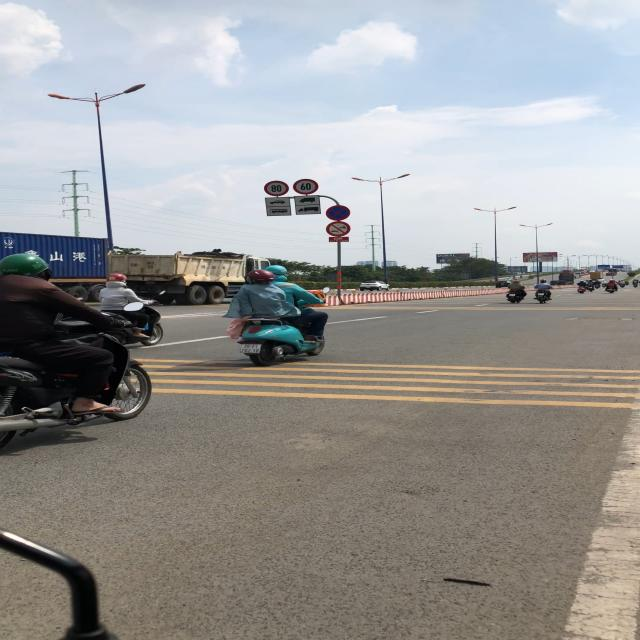Bien bao cam dung xe va do xe: (325, 204, 352, 222)
Bien bao toc do toi da cho phep: (291, 179, 323, 196), (262, 180, 290, 197)
